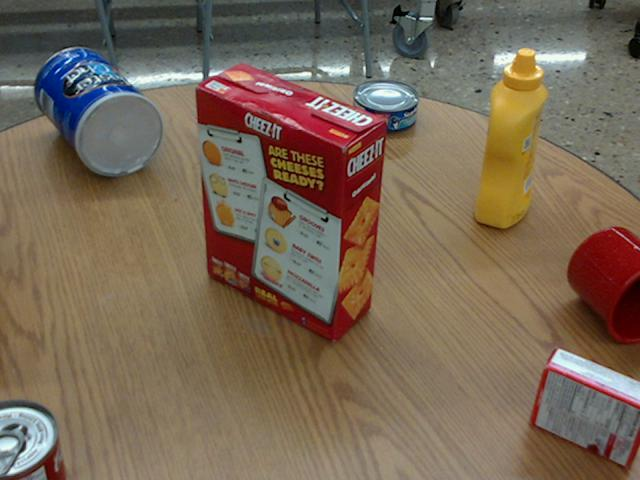cracker_box: (198, 63, 389, 339)
gelatin_box: (531, 349, 639, 467)
master_chef_can: (37, 48, 165, 176)
mug: (568, 226, 639, 343)
mustard_bottle: (475, 48, 548, 226)
potted_meat_can: (245, 86, 330, 196)
sugar_box: (0, 327, 2, 344)
tomato_soup_can: (0, 399, 72, 479)
tuna_fish_can: (354, 77, 420, 132)
